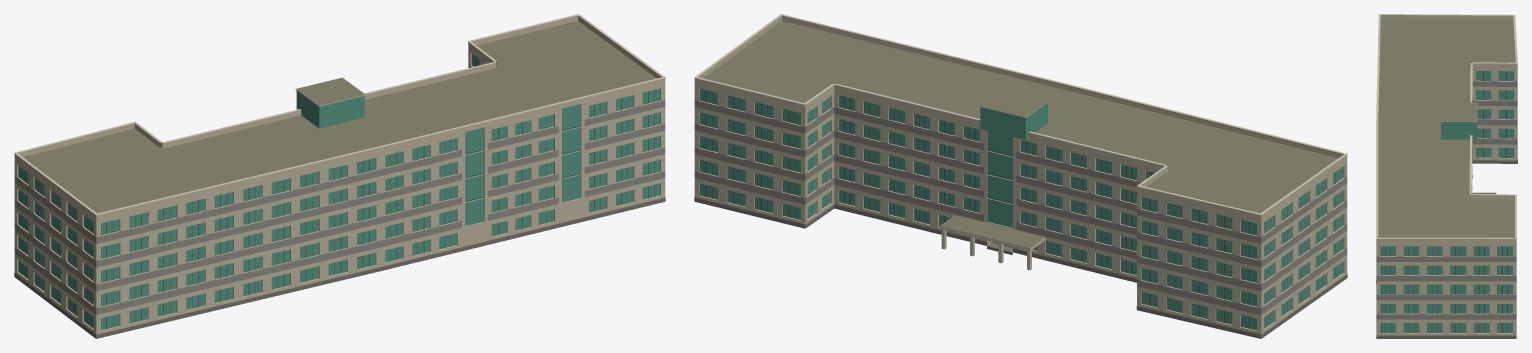
3 renders of one model, left to right at view 1: azimuth 30°, elevation 25°; view 2: azimuth 150°, elevation 25°; view 3: azimuth 270°, elevation 25°, orthographic. The views are drawn at different scales.
Visible parts, largest first — view 1: haklim__wall, haklim__roof, haklim__glass, haklim__wall2, haklim__parapet, haklim__trim, haklim__frame, haklim__base; view 2: haklim__wall, haklim__roof, haklim__glass, haklim__wall2, haklim__parapet, haklim__trim, haklim__frame, haklim__base; view 3: haklim__roof, haklim__wall, haklim__glass, haklim__wall2, haklim__trim, haklim__parapet, haklim__frame, haklim__base.
Boxes of the visible parts, x1,y1,x2,y2 form: haklim__wall: (14, 47, 665, 338); haklim__roof: (23, 21, 656, 213); haklim__glass: (18, 54, 660, 330); haklim__wall2: (14, 64, 665, 314); haklim__parapet: (14, 15, 665, 219); haklim__trim: (14, 14, 665, 215); haklim__frame: (21, 57, 654, 328); haklim__base: (14, 197, 665, 338); haklim__wall: (694, 83, 1347, 338); haklim__roof: (703, 21, 1338, 247); haklim__glass: (699, 88, 1343, 330); haklim__wall2: (694, 100, 1347, 314); haklim__parapet: (694, 15, 1347, 219); haklim__trim: (694, 14, 1347, 250); haklim__frame: (705, 90, 1335, 328); haklim__base: (694, 197, 1347, 338); haklim__roof: (1378, 19, 1515, 237); haklim__wall: (1376, 67, 1517, 335); haklim__glass: (1380, 71, 1513, 332); haklim__wall2: (1376, 81, 1517, 319); haklim__trim: (1376, 14, 1517, 239); haklim__parapet: (1376, 15, 1517, 242); haklim__frame: (1385, 71, 1507, 332); haklim__base: (1376, 160, 1517, 338).
Size of the model in its own units: 87.78 by 21.3 by 23.45.
